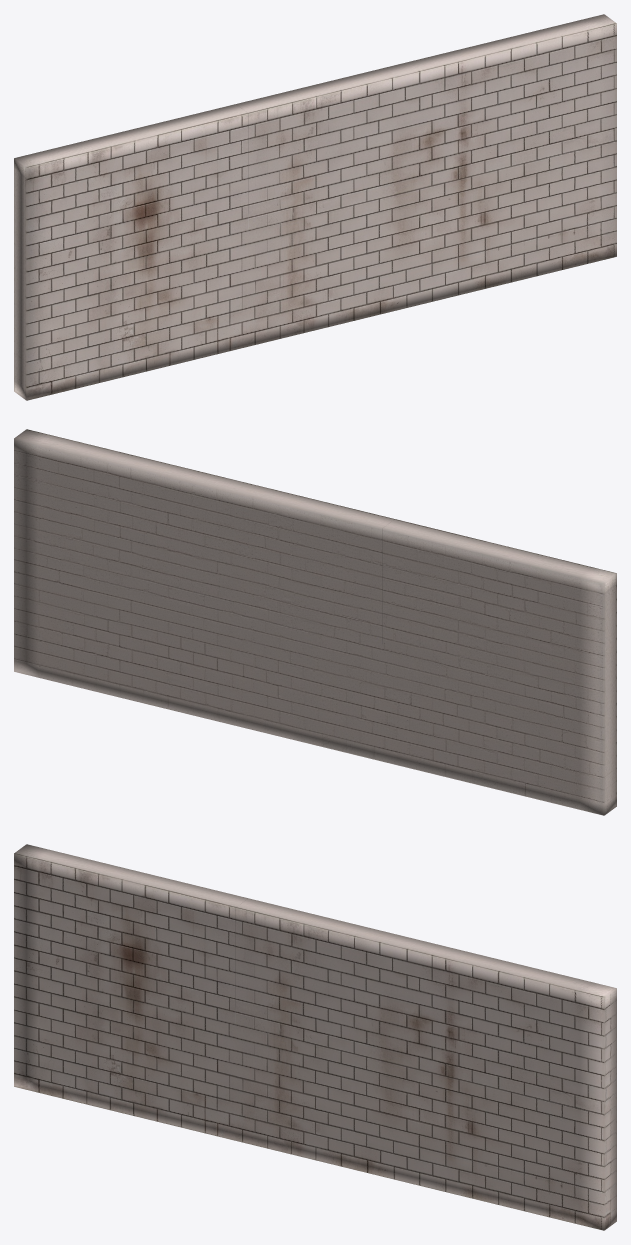
Rendered from brick+wall+subway+plain++3d+model.glb.
3 views of the same model, one above another, from view 1: azimuth 30°, elevation 25°; view 2: azimuth 150°, elevation 25°; view 3: azimuth 330°, elevation 25° (orthographic).
Parts seen in each view (by area): view 1: tripo_node_7ebb4fa0-c53b-4649-908a-e13fe6113926; view 2: tripo_node_7ebb4fa0-c53b-4649-908a-e13fe6113926; view 3: tripo_node_7ebb4fa0-c53b-4649-908a-e13fe6113926.
Boxes of the visible parts, x1,y1,x2,y2 form: tripo_node_7ebb4fa0-c53b-4649-908a-e13fe6113926: (14, 14, 616, 400); tripo_node_7ebb4fa0-c53b-4649-908a-e13fe6113926: (14, 429, 616, 815); tripo_node_7ebb4fa0-c53b-4649-908a-e13fe6113926: (14, 844, 616, 1230).
Size of the model in its own units: 0.998 by 0.377 by 0.0371.
Materials: 1 (1 with a texture image).
